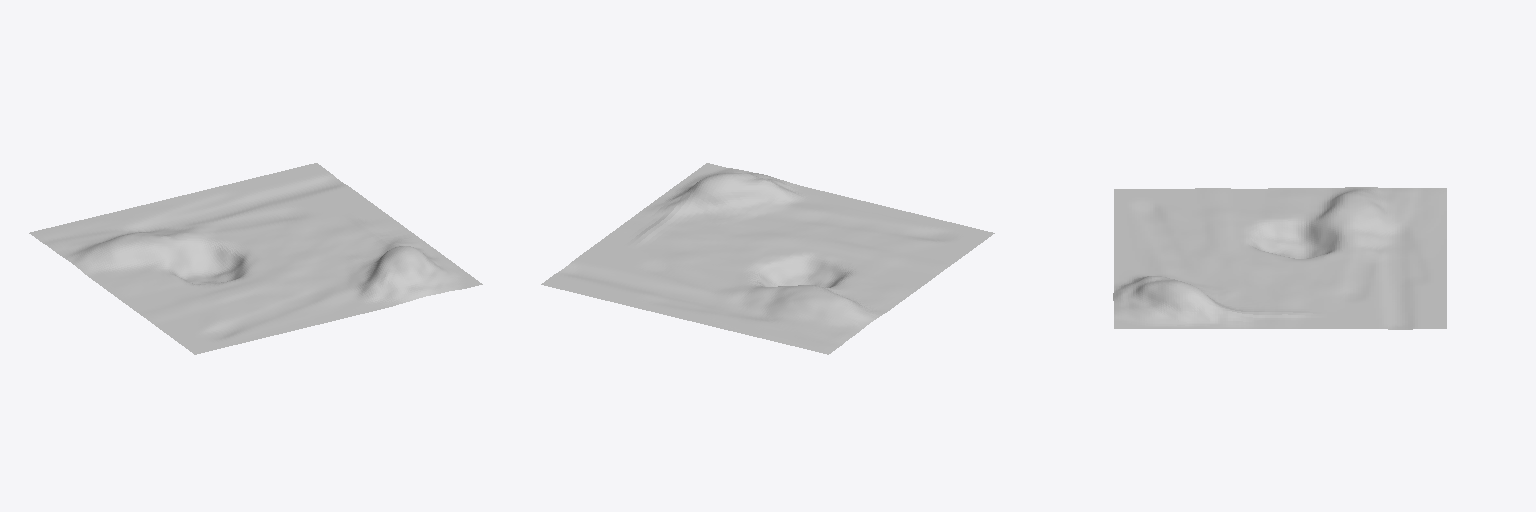
File: Terrain.obj
3 views of the same model, side by side, from view 1: azimuth 30°, elevation 25°; view 2: azimuth 150°, elevation 25°; view 3: azimuth 270°, elevation 25° (orthographic).
Visible parts, largest first — view 1: Mesh_Mesh_Plane; view 2: Mesh_Mesh_Plane; view 3: Mesh_Mesh_Plane.
Boxes of the visible parts, x1,y1,x2,y2 form: Mesh_Mesh_Plane: [29, 163, 482, 354]; Mesh_Mesh_Plane: [541, 163, 994, 354]; Mesh_Mesh_Plane: [1113, 187, 1446, 329].
Size of the model in its own units: 18982 by 2358 by 18998.